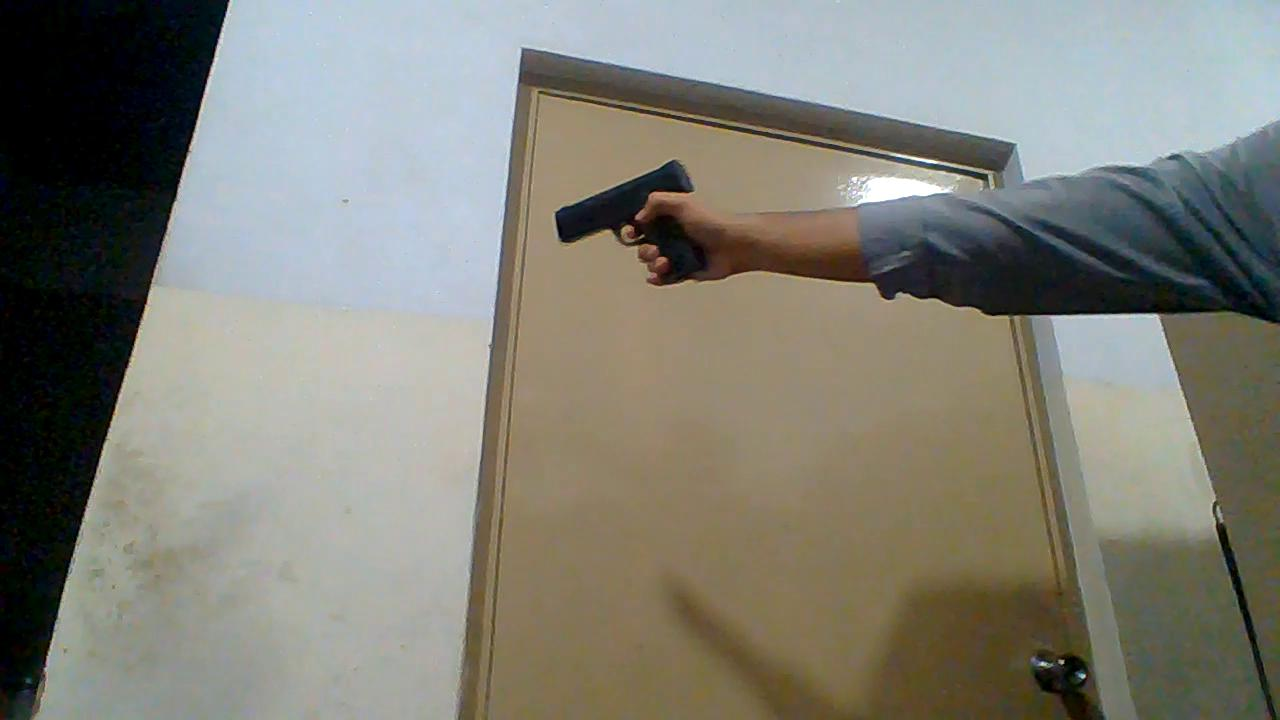weapon: (553, 157, 706, 273)
